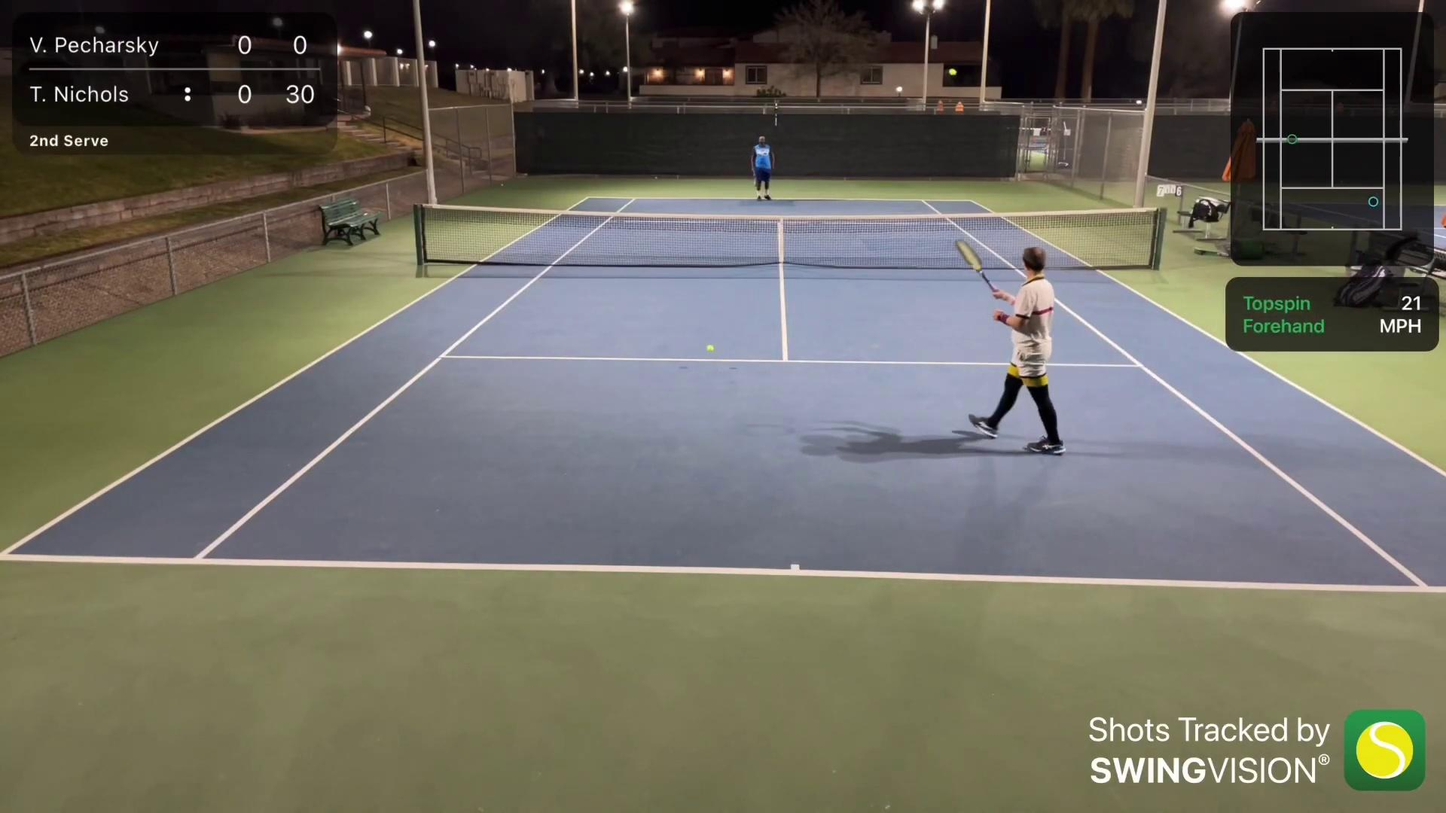ball: (705, 343, 718, 353)
